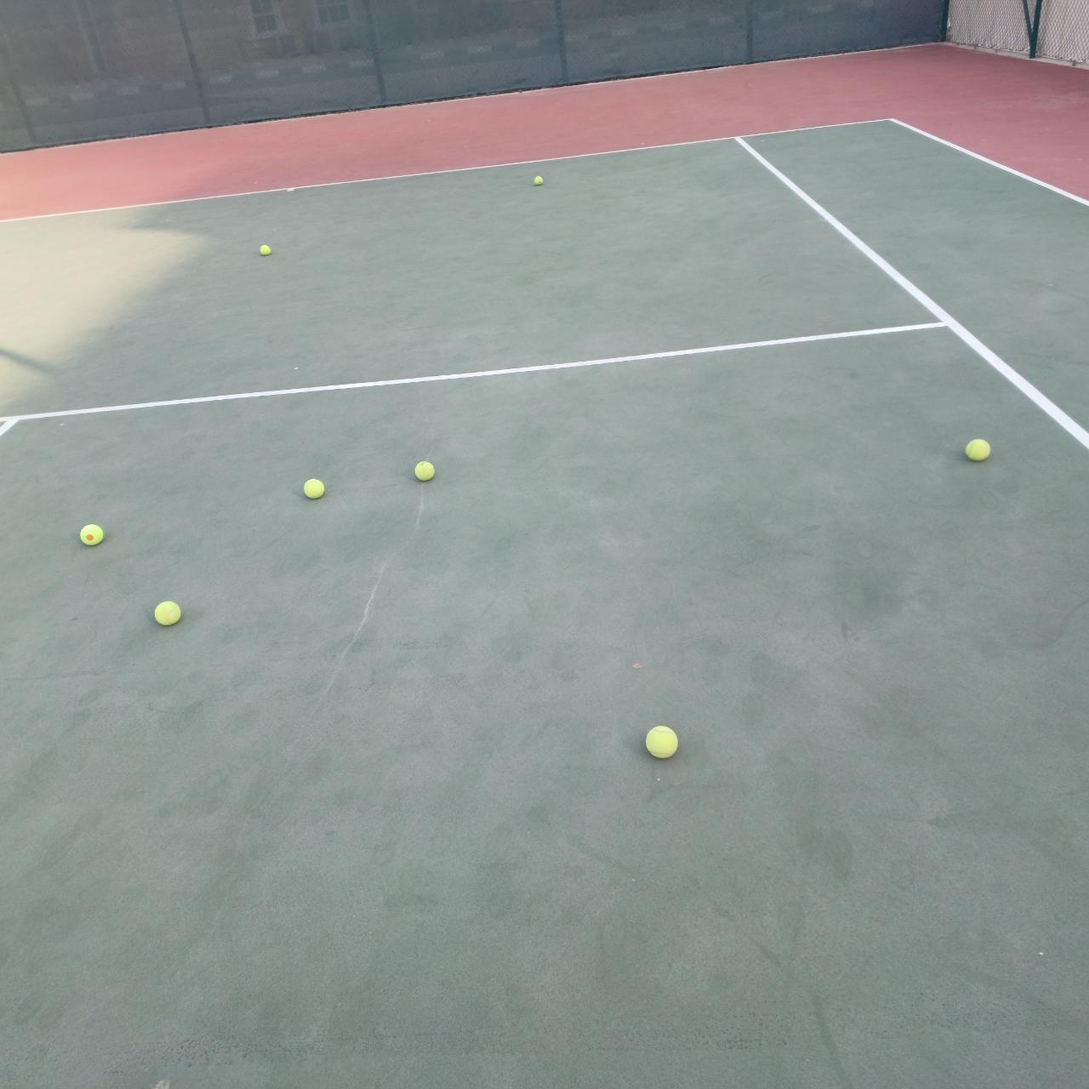tennis-ball: (643, 722, 679, 759), (153, 600, 182, 626), (963, 436, 990, 462), (79, 524, 105, 546), (413, 459, 435, 482), (303, 478, 325, 499), (259, 244, 271, 256), (534, 176, 544, 186)
